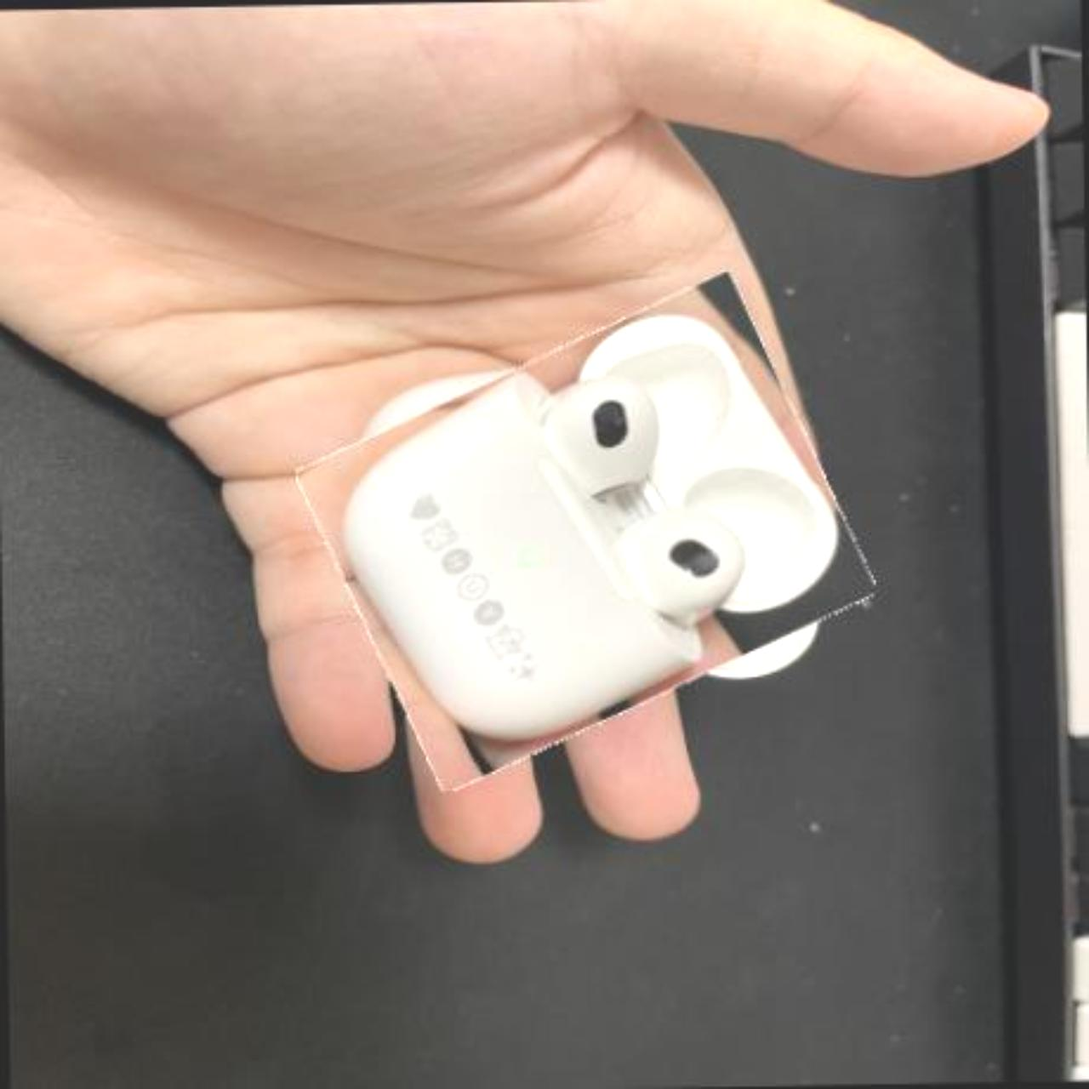AirPods: (318, 309, 855, 754)
